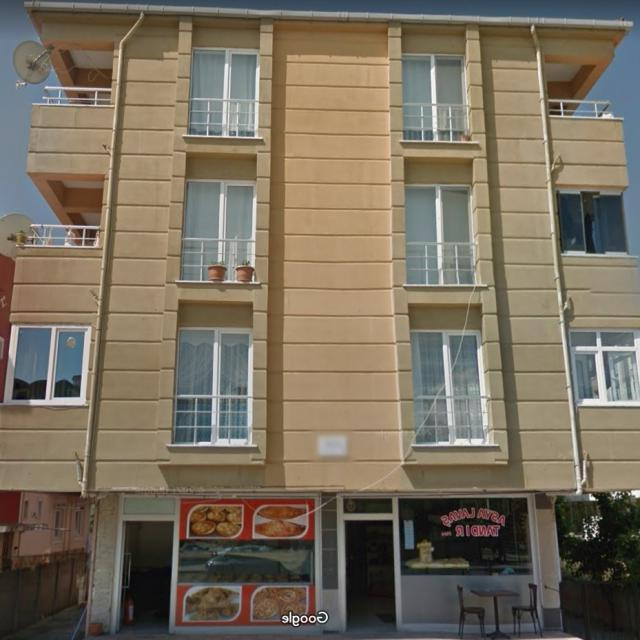Building: (0, 0, 640, 638)
